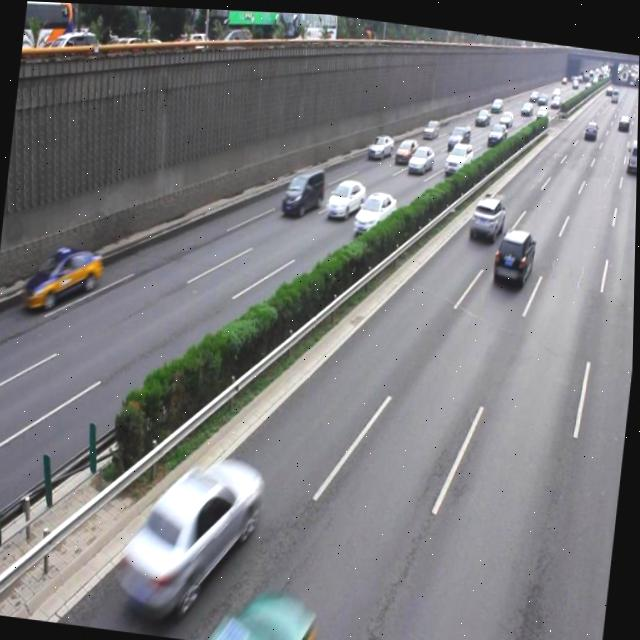car: (120, 445, 266, 614), (22, 240, 105, 316), (490, 220, 537, 280), (352, 184, 398, 232), (325, 172, 367, 217), (467, 191, 505, 240)
truck: (280, 158, 326, 215)
